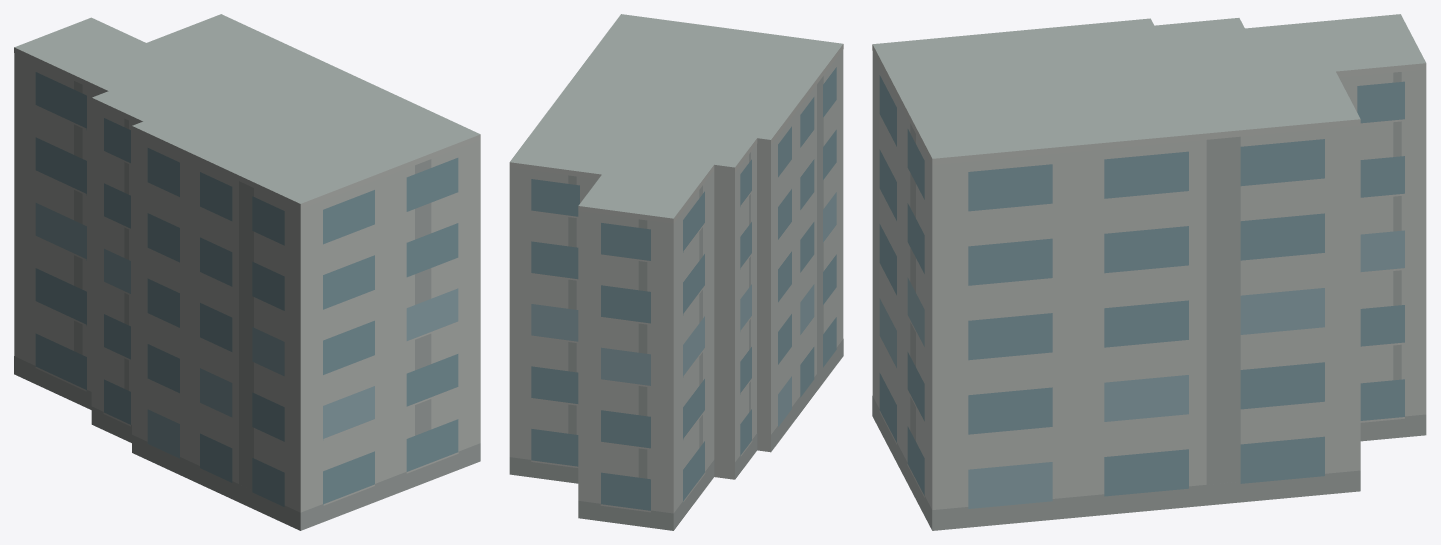
File: survey-upis-32908390.glb
3 views of the same model, side by side, from view 1: azimuth 30°, elevation 25°; view 2: azimuth 150°, elevation 25°; view 3: azimuth 270°, elevation 25° (orthographic). The views are drawn at different scales.
Visible parts, largest first — view 1: survey-upis-32908390.tmp; view 2: survey-upis-32908390.tmp; view 3: survey-upis-32908390.tmp.
Boxes of the visible parts, left/top/right/bottom form: survey-upis-32908390.tmp: left=14, top=14, right=480, bottom=530; survey-upis-32908390.tmp: left=509, top=14, right=843, bottom=530; survey-upis-32908390.tmp: left=872, top=14, right=1426, bottom=530.
Size of the model in its own units: 11.86 by 14.2 by 19.17.
